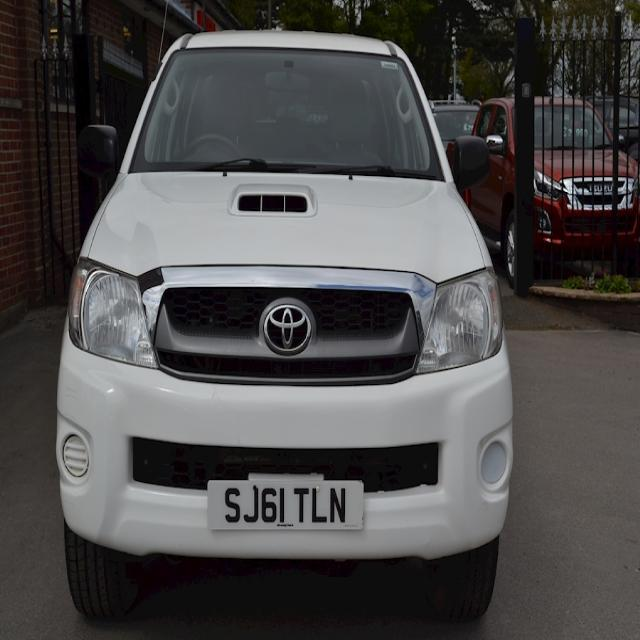light_vehicle: (41, 21, 526, 623)
